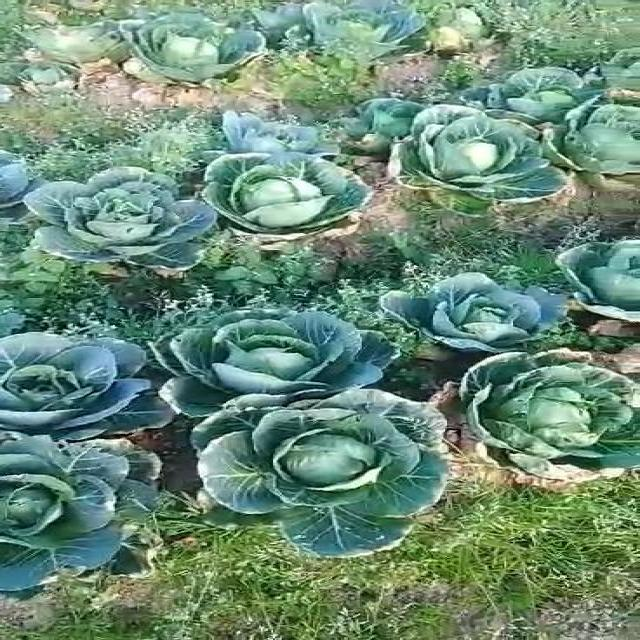Cabbage: (184, 392, 453, 550), (130, 306, 402, 414), (447, 344, 640, 490), (0, 440, 153, 599), (20, 163, 203, 278), (0, 330, 169, 446), (370, 262, 560, 362), (190, 140, 375, 239), (402, 111, 561, 208), (107, 9, 265, 83), (537, 239, 640, 325), (283, 4, 427, 64), (548, 99, 640, 185), (347, 88, 453, 147), (483, 66, 588, 118), (199, 112, 338, 150)
